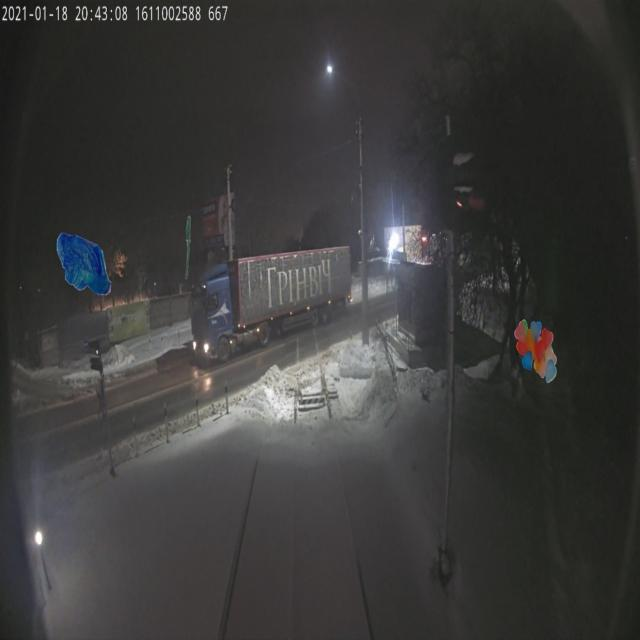balloon: (514, 319, 557, 383)
floating object: (185, 215, 191, 279)
plastic bag: (56, 231, 112, 295)
